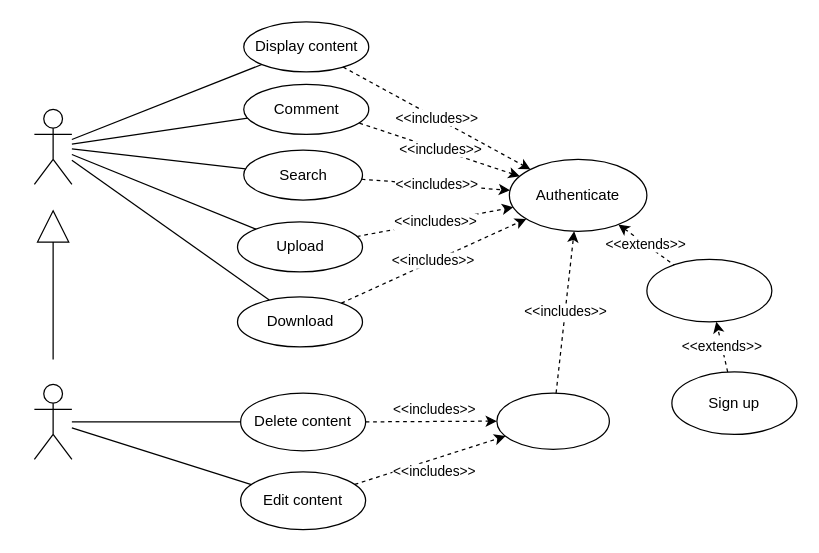
This 819x553 diagram has some shape labels left out. Each missing label, with the centre of its shape:
Admin: (x=52, y=421)
Authorize: (x=552, y=420)
Sign in: (x=709, y=290)
User: (x=52, y=146)
